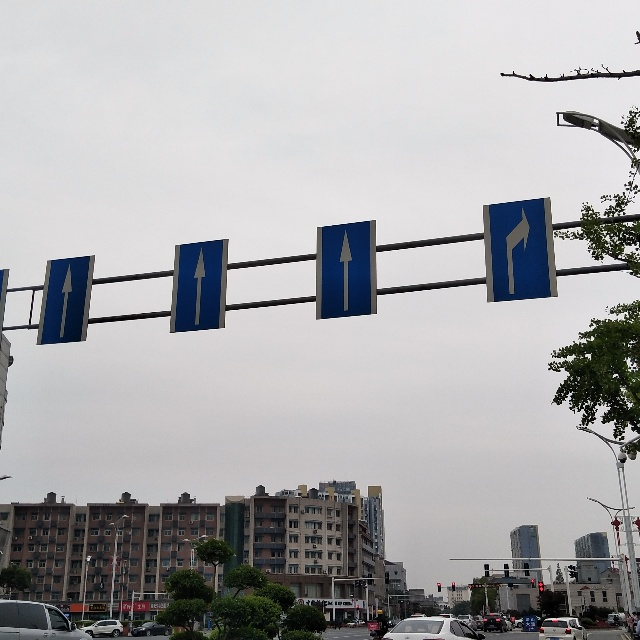right: (482, 197, 559, 304)
straight: (315, 220, 378, 319), (170, 240, 228, 334), (37, 254, 92, 346)
